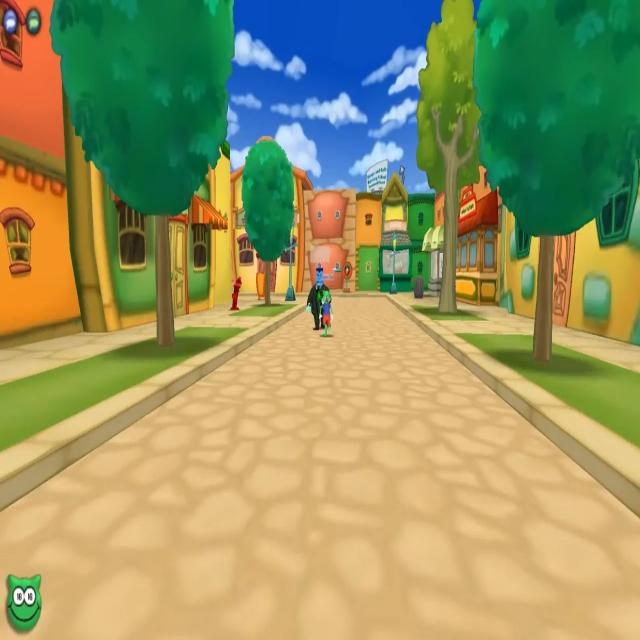shortchange: (299, 250, 341, 330)
